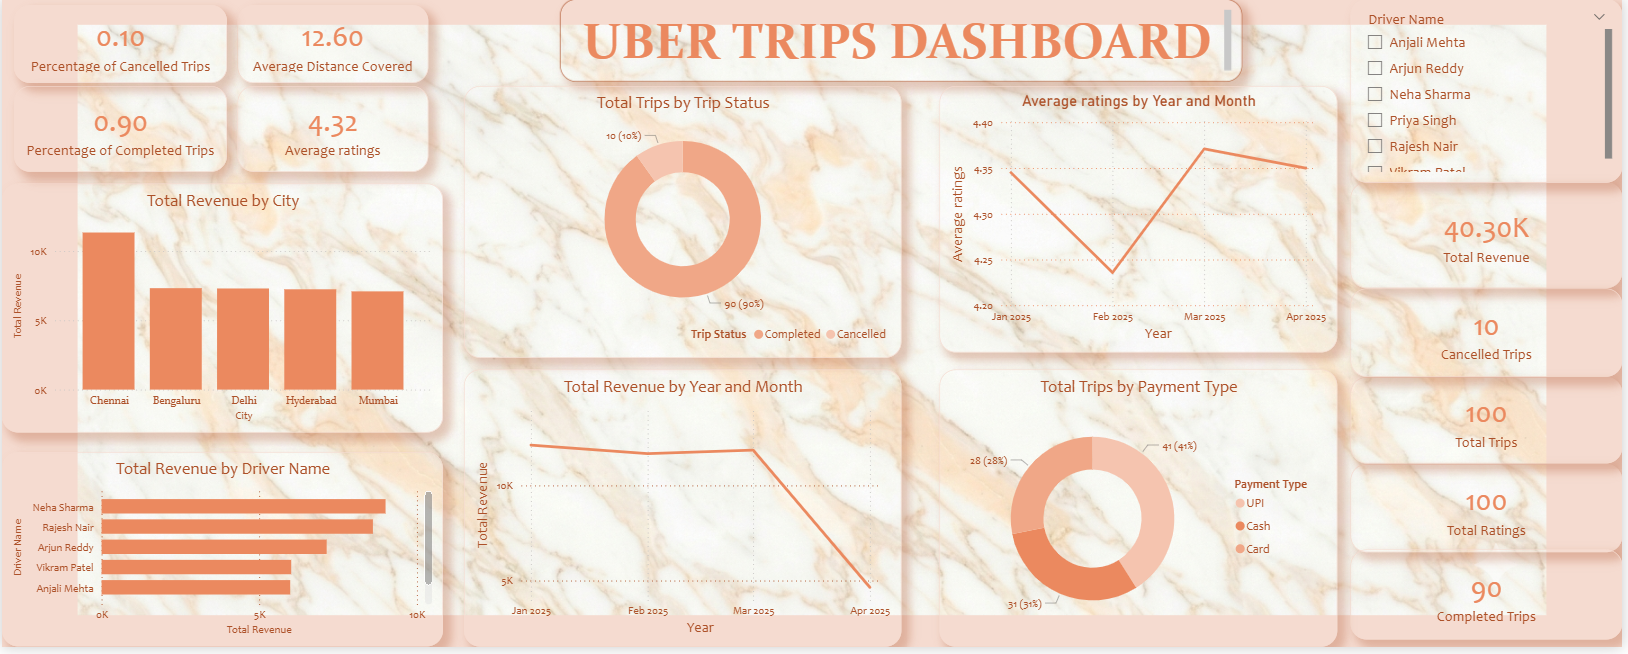

This screenshot's page, from the dashboard's own definition file:
{"tool":"powerbi","page":{"name":"Page 1","canvas":[1800,720],"ordinal":0},"visuals":[{"type":"card","fields":{"Values":["Sheet1.total"]},"box":[1498,204,302,118],"z":0},{"type":"card","fields":{"Values":["Sheet1.Average Distance Covered"]},"box":[261.7,6.7,211.7,86.7],"z":1000},{"type":"card","fields":{"Values":["Sheet1.Total Ratings"]},"box":[1498,516,302,98],"z":2000},{"type":"card","fields":{"Values":["Sheet1.Total Trips"]},"box":[1498,420,302,96],"z":3000},{"type":"card","fields":{"Values":["Sheet1.Percentage of Cancelled Trips"]},"box":[13.3,6.7,236.7,86.7],"z":4000},{"type":"card","fields":{"Values":["Sheet1.Cancelled Trips"]},"box":[1498,322,302,98],"z":5000},{"type":"card","fields":{"Values":["Sheet1.Completed Trips"]},"box":[1498,612,302,100],"z":6000},{"type":"card","fields":{"Values":["Sheet1.Percentage of Completed Trips"]},"box":[13.3,96.7,236.7,95],"z":7000},{"type":"card","fields":{"Values":["Sheet1.Average ratings"]},"box":[261.7,96.7,211.7,95],"z":8000},{"type":"textbox","box":[620,0,758,92],"z":9000},{"type":"columnChart","fields":{"Category":["Sheet1.City"],"Y":["Sheet1.Total Revenue"]},"box":[0,205,490,276.7],"z":10000},{"type":"clusteredBarChart","fields":{"Category":["Sheet1.Driver Name"],"Y":["Sheet1.Total Revenue"]},"box":[0,504,490,216],"z":11000},{"type":"donutChart","fields":{"Category":["Sheet1.Payment Type"],"Y":["Sheet1.Total Trips"]},"box":[1042,412,442,308],"z":12000},{"type":"donutChart","fields":{"Category":["Sheet1.Trip Status"],"Y":["Sheet1.Total Trips"]},"box":[514,96,486,302],"z":13000},{"type":"lineChart","fields":{"Y":["Sheet1.Total Revenue"],"Category":["Sheet1.Date.Variation.Date Hierarchy.Year","Sheet1.Date.Variation.Date Hierarchy.Month"]},"box":[514,412,486,308],"z":14000},{"type":"lineChart","fields":{"Y":["Sheet1.Average ratings"],"Category":["Sheet1.Date.Variation.Date Hierarchy.Year","Sheet1.Date.Variation.Date Hierarchy.Month"]},"box":[1042,96,442,296],"z":15000},{"type":"slicer","fields":{"Values":["Sheet1.Driver Name"]},"box":[1498,0,302,204],"z":16000}]}

Visuals, with their boxes in screenshot pixels (x1, y1, x2, y2), scaled from the page's 1800x720 canvas onto the 1628x654 screenshot:
card - Sheet1.total: locate(1355, 185, 1627, 292)
card - Sheet1.Average Distance Covered: locate(237, 6, 428, 85)
card - Sheet1.Total Ratings: locate(1355, 469, 1627, 558)
card - Sheet1.Total Trips: locate(1355, 382, 1627, 469)
card - Sheet1.Percentage of Cancelled Trips: locate(12, 6, 226, 85)
card - Sheet1.Cancelled Trips: locate(1355, 292, 1627, 382)
card - Sheet1.Completed Trips: locate(1355, 556, 1627, 647)
card - Sheet1.Percentage of Completed Trips: locate(12, 88, 226, 174)
card - Sheet1.Average ratings: locate(237, 88, 428, 174)
textbox: locate(561, 0, 1246, 84)
columnChart - Sheet1.City x Sheet1.Total Revenue: locate(0, 186, 443, 438)
clusteredBarChart - Sheet1.Driver Name x Sheet1.Total Revenue: locate(0, 458, 443, 653)
donutChart - Sheet1.Payment Type x Sheet1.Total Trips: locate(942, 374, 1342, 653)
donutChart - Sheet1.Trip Status x Sheet1.Total Trips: locate(465, 87, 904, 362)
lineChart - Sheet1.Total Revenue x Sheet1.Date.Variation.Date Hierarchy.Year: locate(465, 374, 904, 653)
lineChart - Sheet1.Average ratings x Sheet1.Date.Variation.Date Hierarchy.Year: locate(942, 87, 1342, 356)
slicer - Sheet1.Driver Name: locate(1355, 0, 1627, 185)
